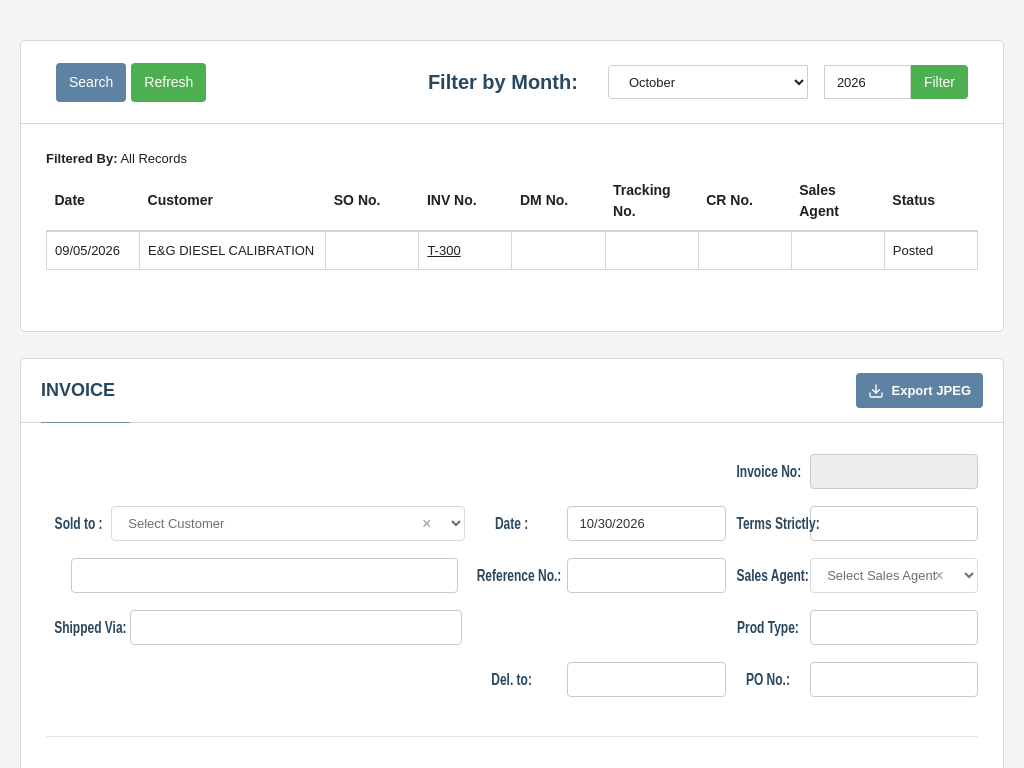
Scenario: InvoiceView › opens an invoice-number-only edit modal for a permitted sales agent
Click the text "T-300".
click(465, 250)  # box [419, 230, 512, 270]
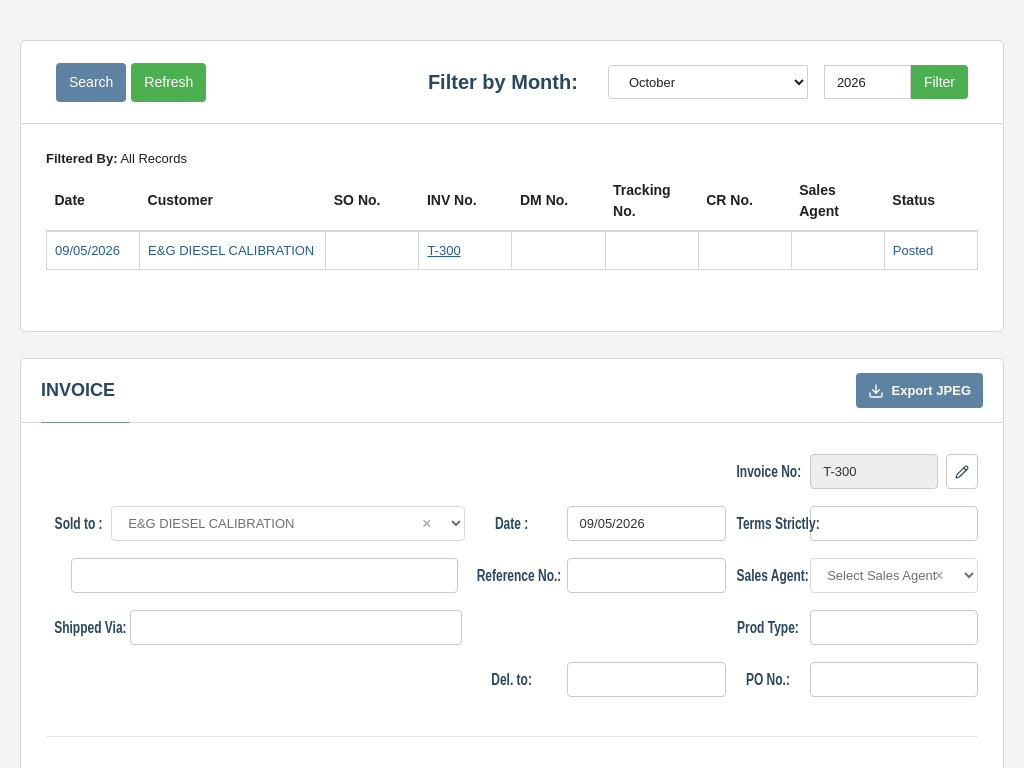
Click the button named "Edit Invoice Number".
click(962, 472)  # box [946, 454, 978, 489]
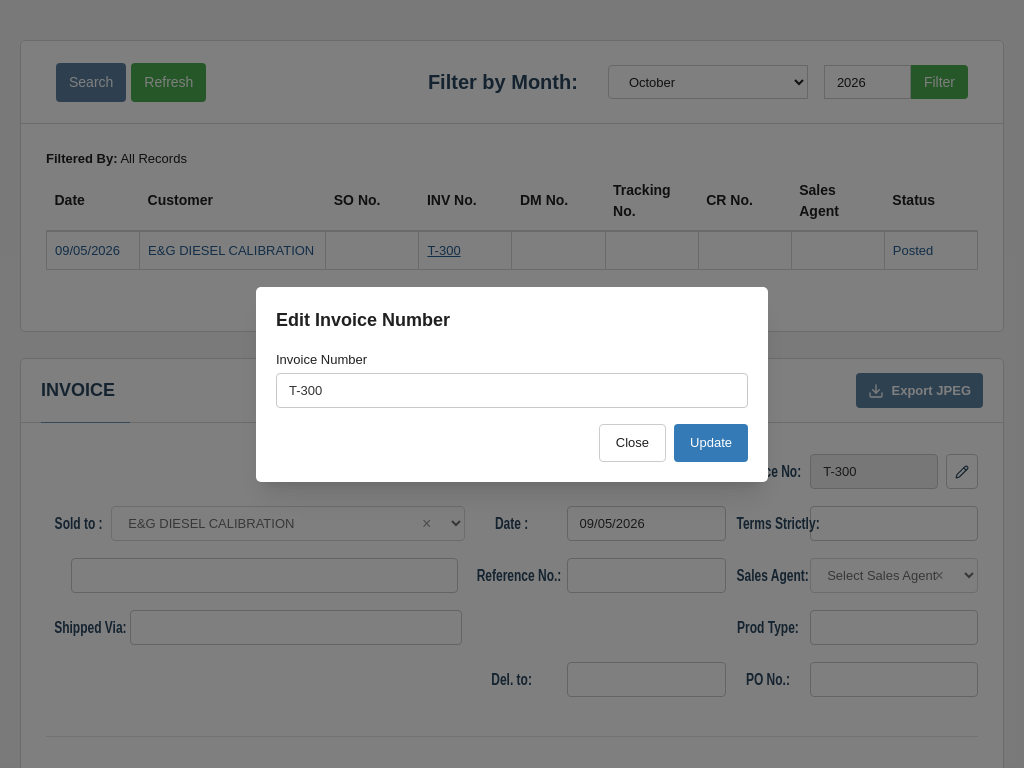
Now the heading "Edit Invoice Number" is shown, box [276, 310, 450, 330]
Now the field named "Edit invoice number value" holds "T-300", box [276, 373, 748, 408]
